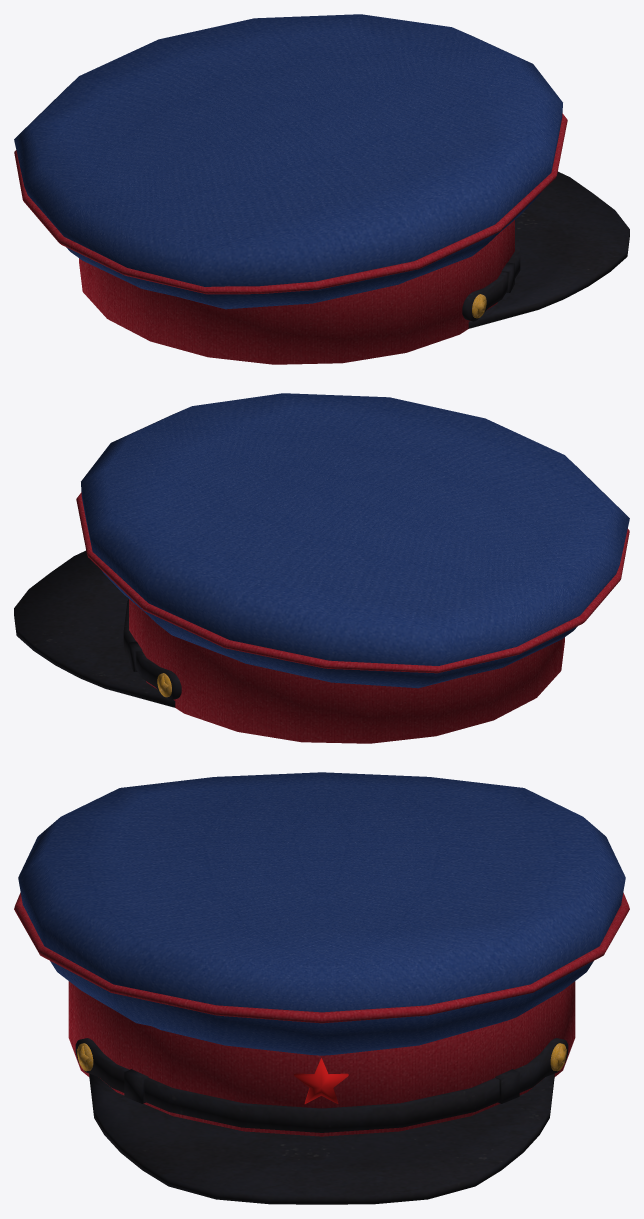
The model's file is Cap.FBX.
The picture shows the model from 3 angles, top to bottom: view 1: azimuth 30°, elevation 25°; view 2: azimuth 150°, elevation 25°; view 3: azimuth 270°, elevation 25°; orthographic projection. The views are drawn at different scales.
Visible parts, largest first — view 1: KGB_low; view 2: KGB_low; view 3: KGB_low.
Boxes of the visible parts, x1,y1,x2,y2 form: KGB_low: [14, 14, 629, 364]; KGB_low: [14, 393, 629, 743]; KGB_low: [14, 772, 629, 1204].
Size of the model in its own units: 41.22 by 12.34 by 35.58.
